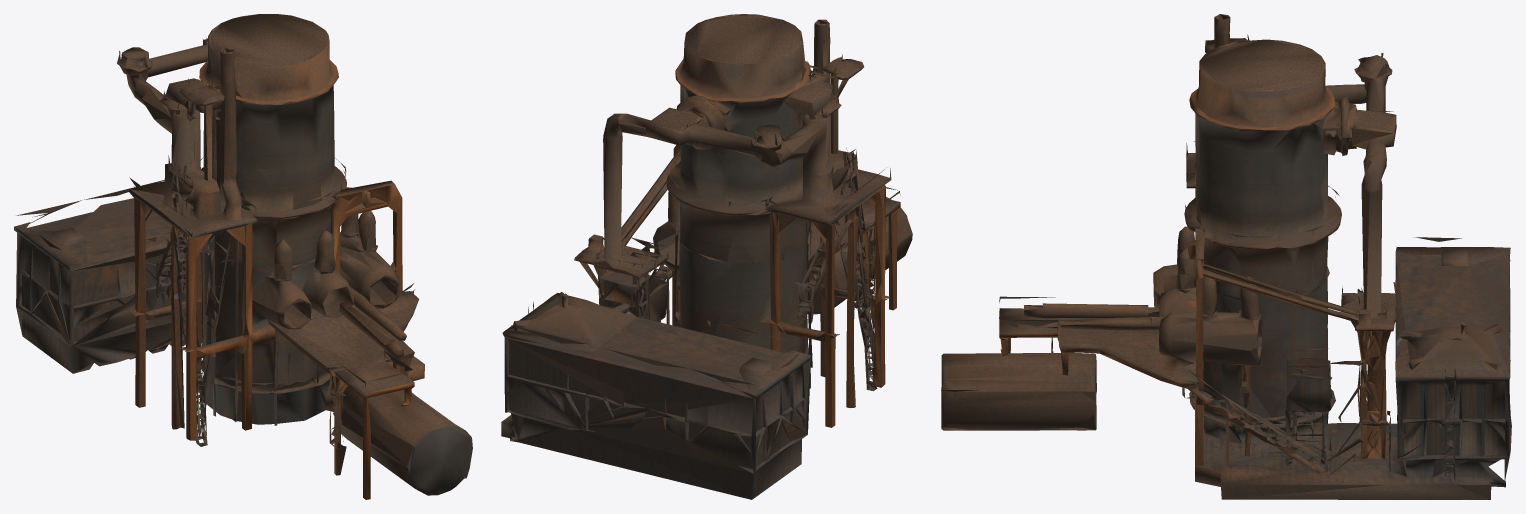
The model's file is Scenery_BlastFurnace.fbx.
3 views of the same model, side by side, from view 1: azimuth 30°, elevation 25°; view 2: azimuth 150°, elevation 25°; view 3: azimuth 270°, elevation 25° (orthographic). The views are drawn at different scales.
Visible parts, largest first — view 1: Mesh_0; view 2: Mesh_0; view 3: Mesh_0.
Part boxes in pixels (box(x1,y1,x2,y2)): Mesh_0: box(14, 14, 472, 499); Mesh_0: box(501, 14, 912, 499); Mesh_0: box(941, 14, 1511, 499).
Size of the model in its own units: 107 by 143 by 190.
Materials: 1 (1 with a texture image).
